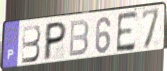6: (94, 15, 112, 55)
7: (141, 7, 162, 51)
B: (68, 18, 90, 59), (21, 23, 42, 65)
E: (115, 10, 139, 55)
P: (42, 20, 68, 63)
